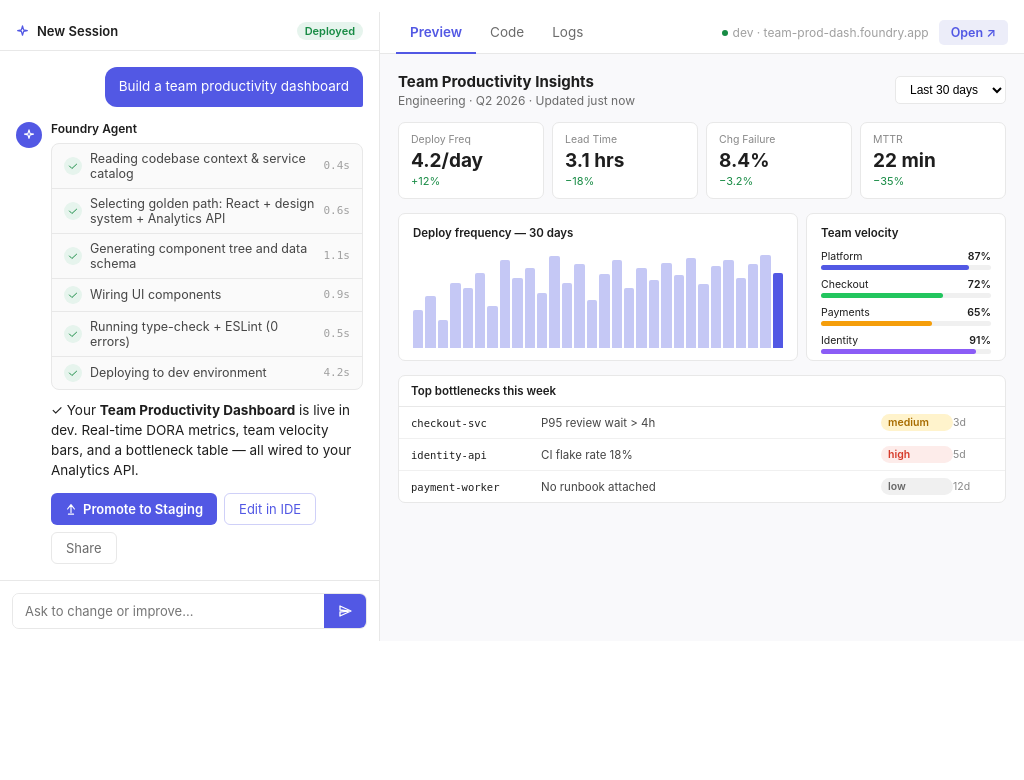
Test: BuildScreen › shows dev logs when the Logs preview tab is clicked
Expected: the button "Promote to Staging" is shown, [51, 493, 217, 525]
Click the button "Logs": point(568, 32) [538, 12, 597, 54]
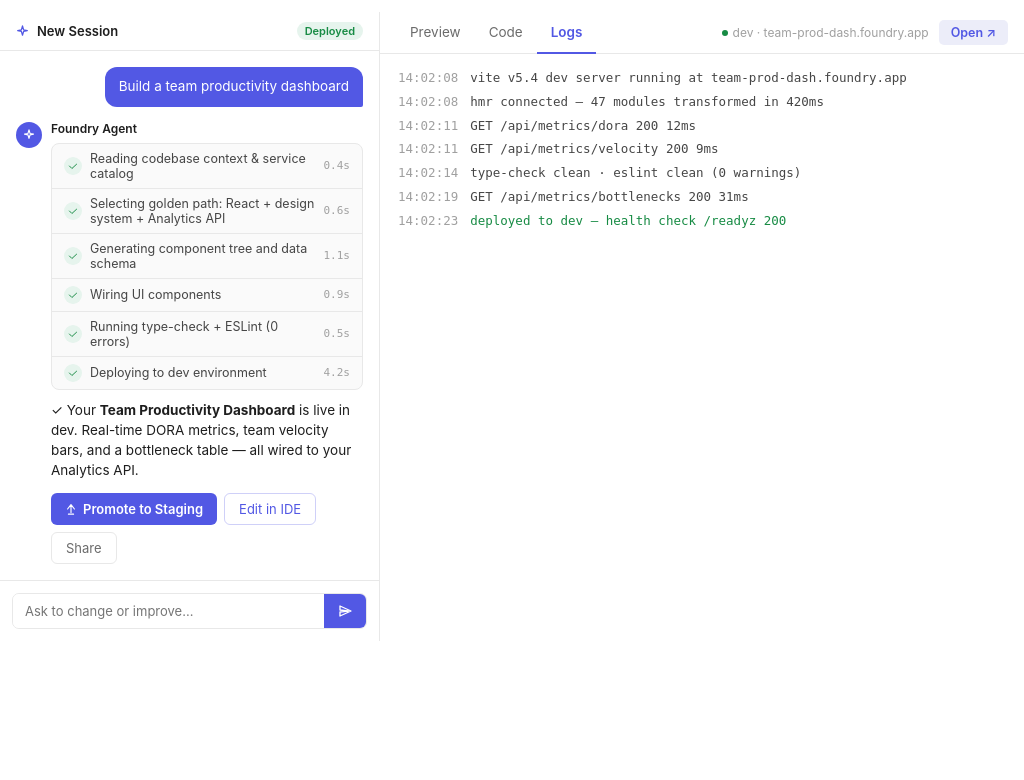
Now the text "deployed to dev — health check /readyz 200" is shown, box [470, 208, 786, 232]
